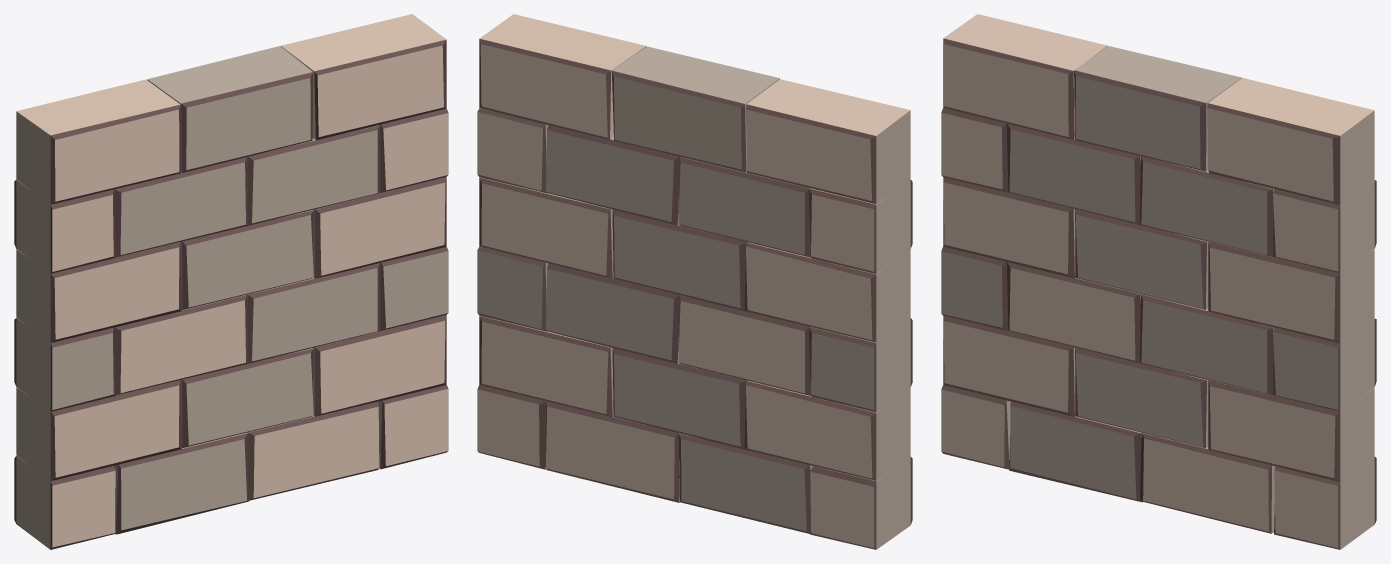
Rendered from greek_wall_1.fbx.
3 renders of one model, left to right at view 1: azimuth 30°, elevation 25°; view 2: azimuth 150°, elevation 25°; view 3: azimuth 330°, elevation 25°, orthographic.
Visible parts, largest first — view 1: Cube.006; view 2: Cube.006; view 3: Cube.006.
Part boxes in pixels (x1,y1,x2,y2): Cube.006: (14, 14, 448, 549); Cube.006: (477, 14, 912, 549); Cube.006: (941, 14, 1376, 549).
Bounding box in the file's own units: 300 × 301 × 50.02.
